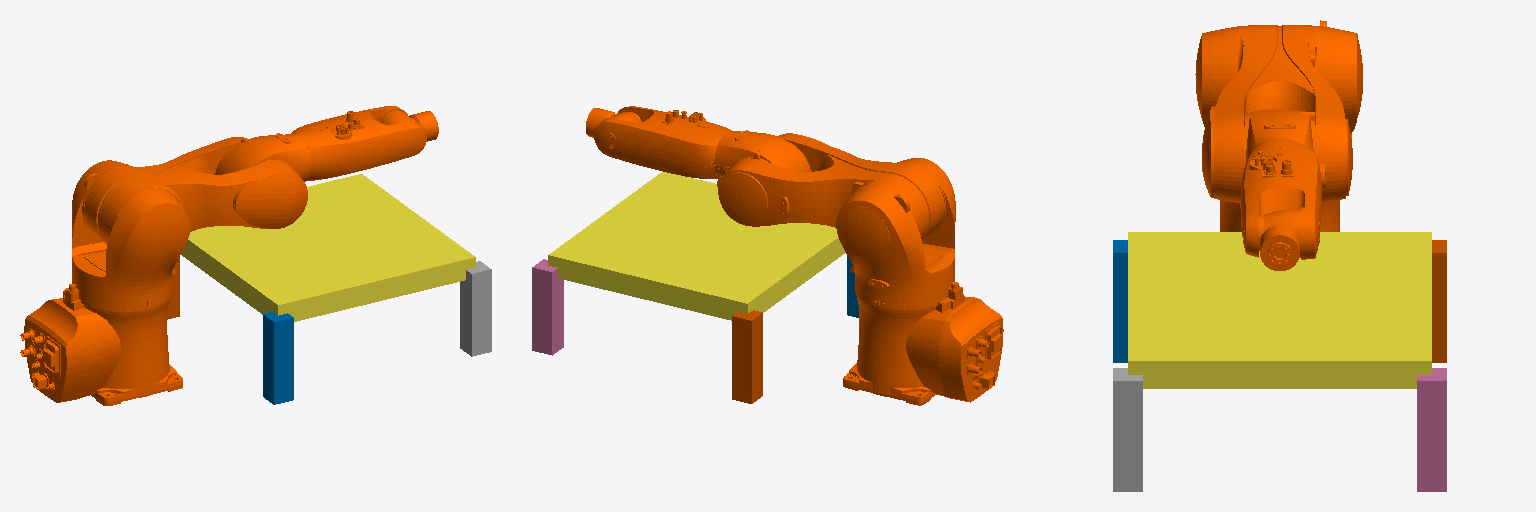
URDF robot description (workcell):
<?xml version="1.0" ?>
<!-- =================================================================================== -->
<!-- |    This document was autogenerated by xacro from src/kuka_kr6/robots/workcell.xacro | -->
<!-- |    EDITING THIS FILE BY HAND IS NOT RECOMMENDED                                 | -->
<!-- =================================================================================== -->
<robot name="workcell" xmlns:xacro="http://ros.org/wiki/xacro">
  <link name="world_frame"/>
  <!-- link list -->
  <link name="base_link">
    <visual>
      <origin rpy="0 0 0" xyz="0 0 0"/>
      <geometry>
        <mesh filename="package://kuka_kr6/robots/base_link.STL"/>
      </geometry>
      <material name="orange">
        <color rgba="1 0.43 0 1"/>
      </material>
    </visual>
    <collision>
      <geometry>
        <mesh filename="package://kuka_kr6/robots/base_link.STL"/>
      </geometry>
      <material name="yellow">
        <color rgba="0 1 1 1"/>
      </material>
    </collision>
  </link>
  <link name="link1">
    <visual>
      <origin rpy="0 0 0" xyz="0.025 0 0"/>
      <geometry>
        <mesh filename="package://kuka_kr6/robots/link1.STL"/>
      </geometry>
      <material name="orange"/>
    </visual>
    <collision>
      <geometry>
        <mesh filename="package://kuka_kr6/robots/link1.STL"/>
      </geometry>
      <material name="yellow"/>
    </collision>
  </link>
  <link name="link2">
    <visual>
      <origin rpy="0 0 0" xyz="0 0 0"/>
      <geometry>
        <mesh filename="package://kuka_kr6/robots/link2.STL"/>
      </geometry>
      <material name="orange"/>
    </visual>
    <collision>
      <geometry>
        <mesh filename="package://kuka_kr6/robots/link2.STL"/>
      </geometry>
      <material name="yellow"/>
    </collision>
  </link>
  <link name="link3">
    <visual>
      <origin rpy="0 0 0" xyz="0 -0.035 0"/>
      <geometry>
        <mesh filename="package://kuka_kr6/robots/link3.STL"/>
      </geometry>
      <material name="orange"/>
    </visual>
    <collision>
      <geometry>
        <mesh filename="package://kuka_kr6/robots/link3.STL"/>
      </geometry>
      <material name="yellow"/>
    </collision>
  </link>
  <link name="link4">
    <visual>
      <origin rpy="0 0 0" xyz="0 0 0"/>
      <geometry>
        <mesh filename="package://kuka_kr6/robots/link4.STL"/>
      </geometry>
      <material name="orange"/>
    </visual>
    <collision>
      <geometry>
        <mesh filename="package://kuka_kr6/robots/link4.STL"/>
      </geometry>
      <material name="yellow"/>
    </collision>
  </link>
  <link name="link5">
    <visual>
      <origin rpy="0 -1.57079633 0" xyz="0 0 0"/>
      <geometry>
        <mesh filename="package://kuka_kr6/robots/link5.STL"/>
      </geometry>
      <material name="orange"/>
    </visual>
    <collision>
      <geometry>
        <mesh filename="package://kuka_kr6/robots/link5.STL"/>
      </geometry>
      <material name="yellow"/>
    </collision>
  </link>
  <link name="link6">
    <visual>
      <origin rpy="0 0 0" xyz="0 0 0"/>
      <geometry>
        <mesh filename="package://kuka_kr6/robots/link6.STL"/>
      </geometry>
      <material name="orange"/>
    </visual>
    <collision>
      <geometry>
        <mesh filename="package://kuka_kr6/robots/link6.STL"/>
      </geometry>
      <material name="yellow"/>
    </collision>
  </link>
  <link name="tip"/>
  <!-- end of link list -->
  <!-- joint list -->
  <joint name="joint1" type="revolute">
    <origin rpy="3.14159265 0 0" xyz="0 0 0.4"/>
    <parent link="base_link"/>
    <child link="link1"/>
    <axis xyz="0 0 1"/>
    <limit effort="1" lower="-2.967059728" upper="2.967059728" velocity="1"/>
  </joint>
  <joint name="joint2" type="revolute">
    <origin rpy="1.57079633 0 0" xyz="0.025 0 0"/>
    <parent link="link1"/>
    <child link="link2"/>
    <axis xyz="0 0 1"/>
    <limit effort="1" lower="-3.316125579" upper="0.785398163" velocity="1"/>
  </joint>
  <joint name="joint3" type="revolute">
    <origin rpy="0 0 0" xyz="0.315 0 0"/>
    <parent link="link2"/>
    <child link="link3"/>
    <axis xyz="0 0 1"/>
    <limit effort="1" lower="-2.094395102" upper="2.722713633" velocity="1"/>
  </joint>
  <joint name="joint4" type="revolute">
    <origin rpy="0 -1.57079633 0" xyz="0.365 -0.035 0"/>
    <parent link="link3"/>
    <child link="link4"/>
    <axis xyz="0 0 1"/>
    <limit effort="1" lower="-3.228859116" upper="3.228859116" velocity="1"/>
  </joint>
  <joint name="joint5" type="revolute">
    <origin rpy="0 1.57079633 0" xyz="0 0 0"/>
    <parent link="link4"/>
    <child link="link5"/>
    <axis xyz="0 0 1"/>
    <limit effort="1" lower="-2.094395102" upper="2.094395102" velocity="1"/>
  </joint>
  <joint name="joint6" type="revolute">
    <origin rpy="0 -1.57079633 0" xyz="0 0 0"/>
    <parent link="link5"/>
    <child link="link6"/>
    <axis xyz="0 0 1"/>
    <limit effort="1" lower="-6.108652382" upper="6.108652382" velocity="1"/>
  </joint>
  <joint name="tip_joint" type="fixed">
    <origin rpy="3.14159265 0 1.57079633" xyz="0 0 -0.08"/>
    <parent link="link6"/>
    <child link="tip"/>
  </joint>
  <!-- end of joint list -->
  <!-- ROS base_link to World Coordinates transform -->
  <link name="base"/>
  <joint name="base_link-base" type="fixed">
    <origin rpy="0 0 0" xyz="0 0 0"/>
    <parent link="base_link"/>
    <child link="base"/>
  </joint>
  <link name="table_base"/>
  <link name="table_top">
    <visual>
      <geometry>
        <box size="0.5 0.5 0.05"/>
      </geometry>
      <origin rpy="0 0 0" xyz="0 0 0"/>
    </visual>
    <collision>
      <geometry>
        <box size="0.5 0.5 0.05"/>
      </geometry>
      <origin rpy="0 0 0" xyz="0 0 0"/>
    </collision>
  </link>
  <joint name="table_top" type="fixed">
    <parent link="table_base"/>
    <child link="table_top"/>
    <origin rpy="0 0 0" xyz="0 0 0.2"/>
  </joint>
  <link name="table_leg_1">
    <visual>
      <geometry>
        <box size="0.05 0.05 0.2"/>
      </geometry>
      <origin rpy="0 0 0" xyz="0 0 0"/>
    </visual>
    <collision>
      <geometry>
        <box size="0.05 0.05 0.2"/>
      </geometry>
      <origin rpy="0 0 0" xyz="0 0 0"/>
    </collision>
  </link>
  <joint name="table_leg_1" type="fixed">
    <parent link="table_base"/>
    <child link="table_leg_1"/>
    <origin rpy="0 0 0" xyz="-0.25 -0.25 0.1"/>
  </joint>
  <link name="table_leg_2">
    <visual>
      <geometry>
        <box size="0.05 0.05 0.2"/>
      </geometry>
      <origin rpy="0 0 0" xyz="0 0 0"/>
    </visual>
    <collision>
      <geometry>
        <box size="0.05 0.05 0.2"/>
      </geometry>
      <origin rpy="0 0 0" xyz="0 0 0"/>
    </collision>
  </link>
  <joint name="table_leg_2" type="fixed">
    <parent link="table_base"/>
    <child link="table_leg_2"/>
    <origin rpy="0 0 0" xyz="-0.25 0.25 0.1"/>
  </joint>
  <link name="table_leg_3">
    <visual>
      <geometry>
        <box size="0.05 0.05 0.2"/>
      </geometry>
      <origin rpy="0 0 0" xyz="0 0 0"/>
    </visual>
    <collision>
      <geometry>
        <box size="0.05 0.05 0.2"/>
      </geometry>
      <origin rpy="0 0 0" xyz="0 0 0"/>
    </collision>
  </link>
  <joint name="table_leg_3" type="fixed">
    <parent link="table_base"/>
    <child link="table_leg_3"/>
    <origin rpy="0 0 0" xyz="0.25 0.25 0.1"/>
  </joint>
  <link name="table_leg_4">
    <visual>
      <geometry>
        <box size="0.05 0.05 0.2"/>
      </geometry>
      <origin rpy="0 0 0" xyz="0 0 0"/>
    </visual>
    <collision>
      <geometry>
        <box size="0.05 0.05 0.2"/>
      </geometry>
      <origin rpy="0 0 0" xyz="0 0 0"/>
    </collision>
  </link>
  <joint name="table_leg_4" type="fixed">
    <parent link="table_base"/>
    <child link="table_leg_4"/>
    <origin rpy="0 0 0" xyz="0.25 -0.25 0.1"/>
  </joint>
  <joint name="world_to_robot" type="fixed">
    <parent link="world_frame"/>
    <child link="base_link"/>
    <origin rpy="0 0 0" xyz="0 0 0"/>
  </joint>
  <joint name="world_to_table" type="fixed">
    <parent link="world_frame"/>
    <child link="table_base"/>
    <origin rpy="0 0 0" xyz="0.5 0 0"/>
  </joint>
</robot>

--- Render facts (derived) ---
3 views of the same robot in one strip: view 1: azimuth 30°, elevation 25°; view 2: azimuth 150°, elevation 25°; view 3: azimuth 270°, elevation 25° (orthographic).
Model workcell with 16 links and 15 joints (6 revolute, 9 fixed), rooted at world_frame, posed every joint at zero.
Visible links, largest first — view 1: table_top, base_link, link2, link1, link4, table_leg_1, table_leg_4, link3, link5; view 2: table_top, base_link, link2, link1, link4, table_leg_2, table_leg_3, link3, link5; view 3: table_top, link2, link4, link1, table_leg_3, table_leg_4, link3, link5, table_leg_1, table_leg_2, base_link.
Boxes of the visible links, x1,y1,x2,y2 form: table_top: (181,174,475,321); base_link: (20,284,182,405); link2: (84,137,307,243); link1: (72,160,189,311); link4: (291,106,426,181); table_leg_1: (263,312,293,404); table_leg_4: (460,261,491,356); link3: (215,133,310,181); link5: (380,110,438,141); table_top: (548,171,845,320); base_link: (843,282,1003,405); link2: (717,133,944,239); link1: (836,158,955,310); link4: (594,106,731,178); table_leg_2: (732,310,762,403); table_leg_3: (532,259,563,355); link3: (714,130,810,177); link5: (586,108,641,137); table_top: (1128,232,1431,388); link2: (1202,25,1352,202); link4: (1240,138,1321,259); link1: (1195,20,1362,137); table_leg_3: (1417,368,1446,491); table_leg_4: (1113,368,1142,491); link3: (1244,110,1315,167); link5: (1259,210,1300,270); table_leg_1: (1113,240,1127,362); table_leg_2: (1432,240,1446,362); base_link: (1220,200,1339,231).
Bounding box of the posed robot: 1.01 × 0.55 × 0.508 m (x, y, z).
7 mesh visuals loaded from 7 distinct referenced files (7 binary STL).